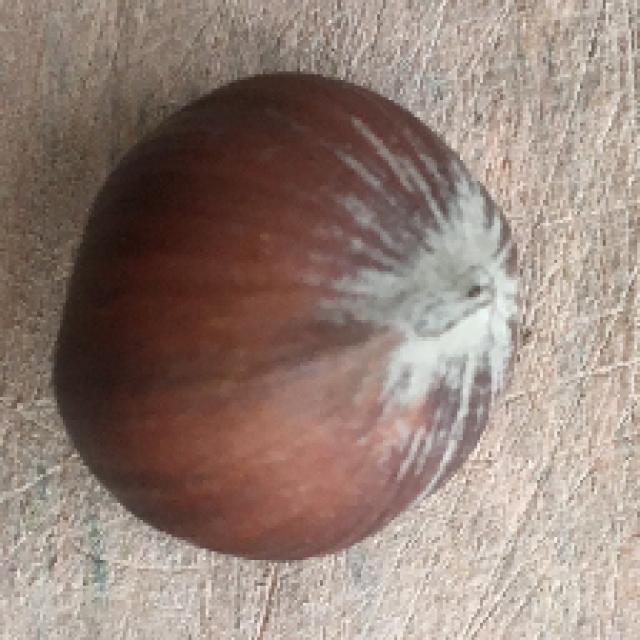damagedHazelnut: (45, 60, 532, 563)
